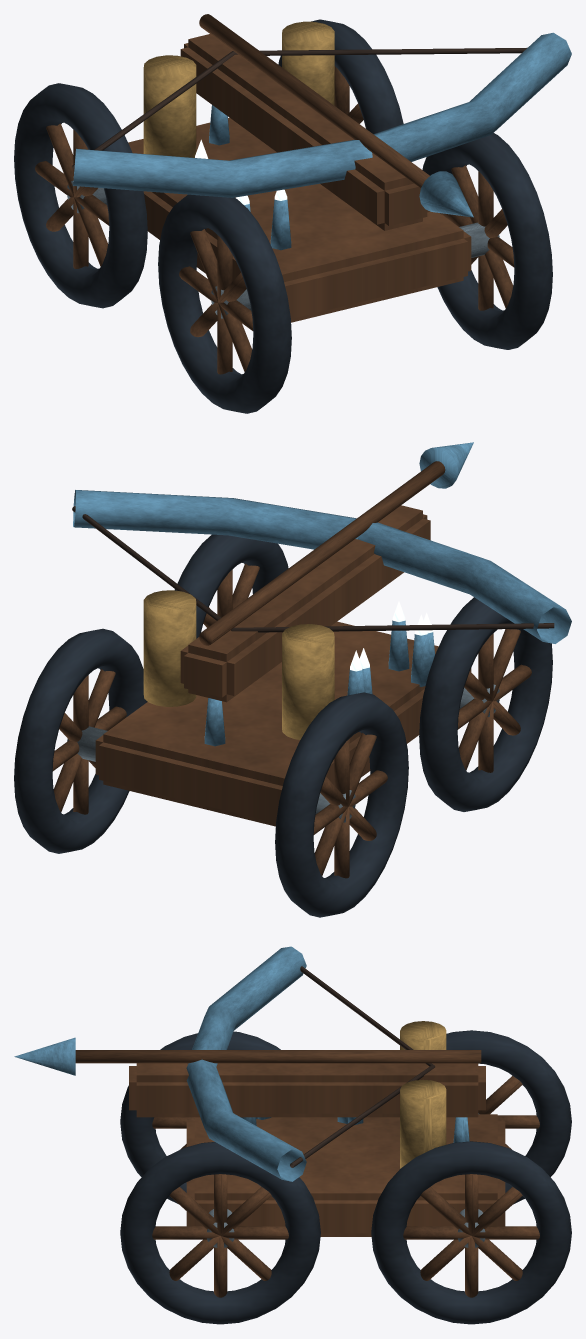
Rendered from enemy_ice_ballista.glb.
The picture shows the model from 3 angles, top to bottom: view 1: azimuth 30°, elevation 25°; view 2: azimuth 150°, elevation 25°; view 3: azimuth 270°, elevation 25°; orthographic projection. The views are drawn at different scales.
Visible parts, largest first — view 1: Old_oak, Forged_black_iron, Blue_glacial_ice, Antique_brass, Oiled_leather, Weathered_blue_steel; view 2: Old_oak, Forged_black_iron, Blue_glacial_ice, Antique_brass, Oiled_leather, Weathered_blue_steel, Frost_core; view 3: Old_oak, Forged_black_iron, Blue_glacial_ice, Antique_brass, Oiled_leather.
Boxes of the visible parts, x1=… form: Old_oak: x1=35, y1=14, x2=514, y2=374; Forged_black_iron: x1=14, y1=19, x2=552, y2=413; Blue_glacial_ice: x1=73, y1=32, x2=571, y2=250; Antique_brass: x1=143, y1=21, x2=334, y2=157; Oiled_leather: x1=72, y1=47, x2=527, y2=169; Weathered_blue_steel: x1=67, y1=180, x2=499, y2=318; Old_oak: x1=52, y1=461, x2=531, y2=878; Forged_black_iron: x1=14, y1=534, x2=552, y2=917; Blue_glacial_ice: x1=73, y1=442, x2=571, y2=746; Antique_brass: x1=143, y1=590, x2=334, y2=739; Oiled_leather: x1=72, y1=506, x2=554, y2=632; Weathered_blue_steel: x1=67, y1=684, x2=499, y2=822; Frost_core: x1=350, y1=601, x2=432, y2=671; Old_oak: x1=75, y1=1050, x2=539, y2=1297; Forged_black_iron: x1=120, y1=1030, x2=571, y2=1324; Blue_glacial_ice: x1=14, y1=946, x2=469, y2=1181; Antique_brass: x1=400, y1=1021, x2=446, y2=1168; Oiled_leather: x1=290, y1=966, x2=435, y2=1167.
Bounding box in the file's own units: 3.45 × 1.74 × 3.84.
Materials: 7 (6 with a texture image).
